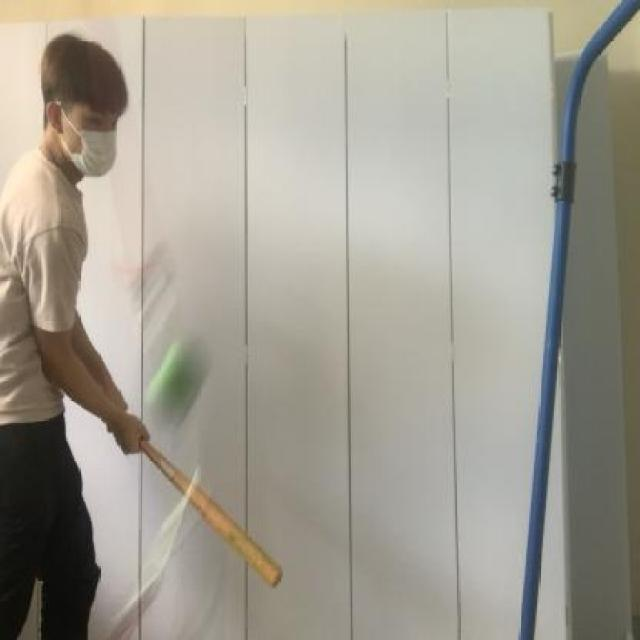baseball: (143, 320, 220, 438)
